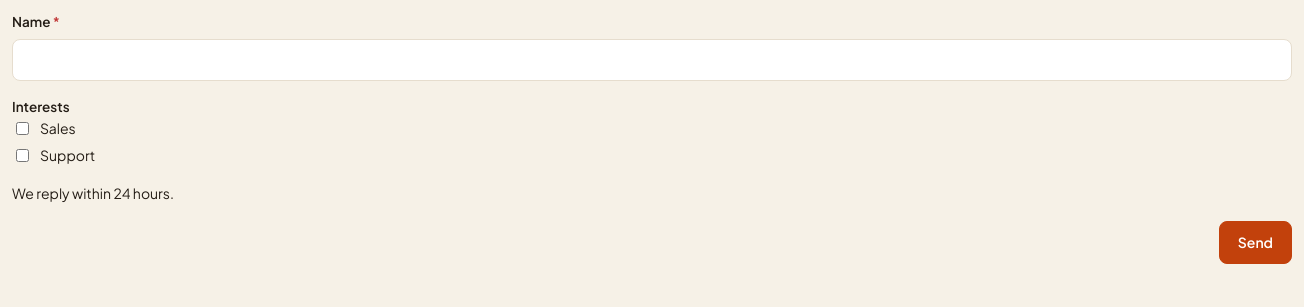
it: FormRenderer › blocks submission and shows an error when a required field is empty
The image size is (1304, 307).
Click the button "Send" at (1255, 242), box x1=1219 y1=221 x2=1292 y2=264
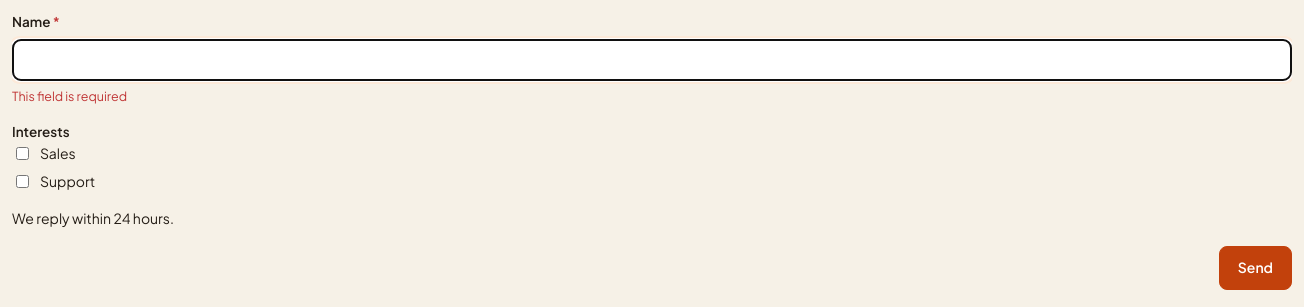
Now the text "This field is required" is shown, box x1=12 y1=88 x2=127 y2=104
